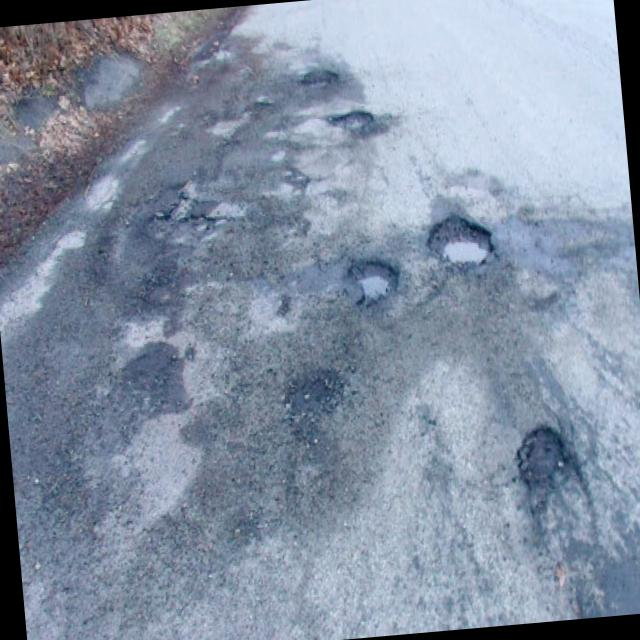Potholes: (497, 406, 626, 624), (152, 162, 238, 267), (422, 189, 504, 285), (322, 95, 396, 173), (347, 252, 409, 320), (300, 61, 343, 112)
